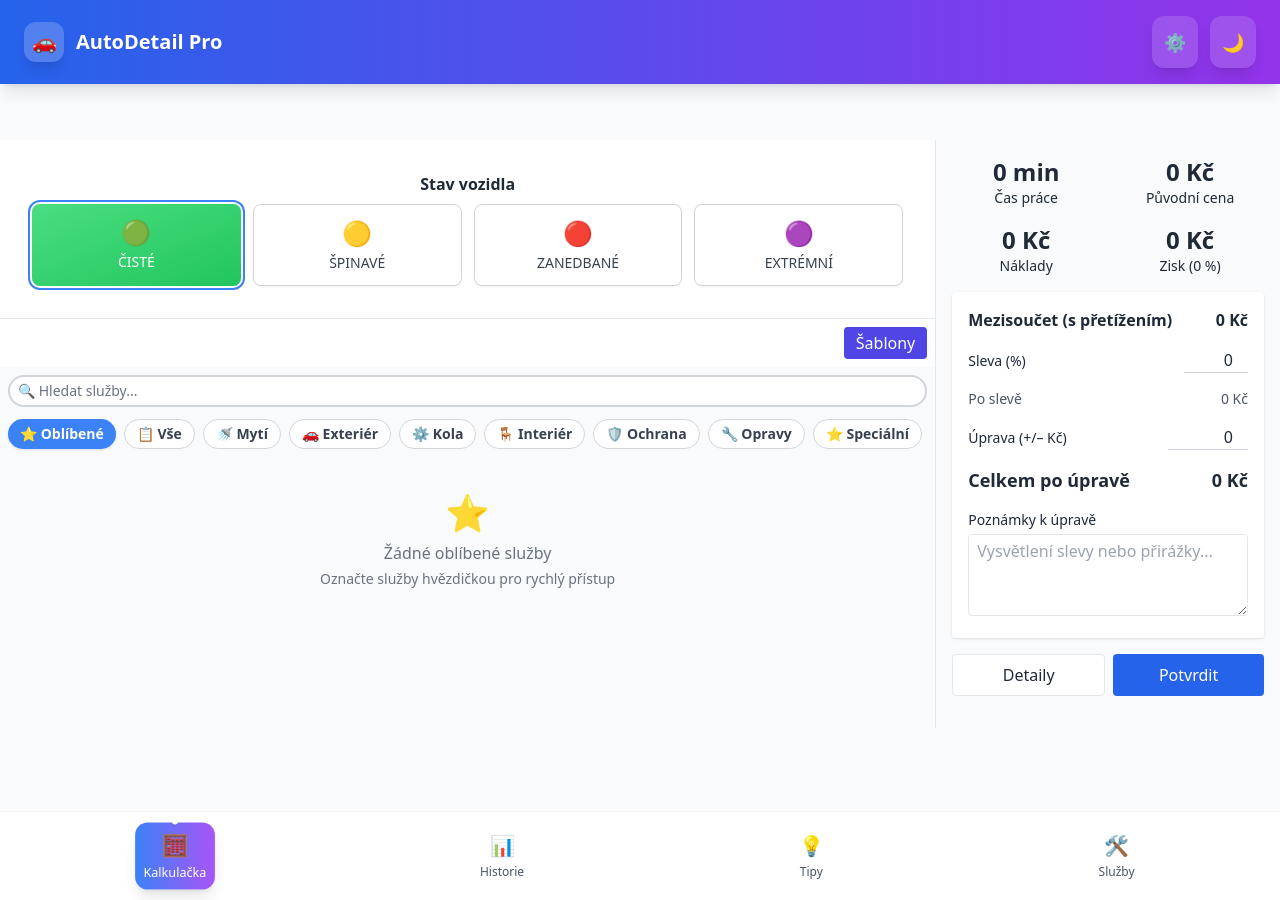
Test case: App › opens templates modal
What coordinates should you click on to do the following:
click the button "Šablony"
I would click on:
 (886, 343)
Its box is top-left (844, 327), bottom-right (927, 359).
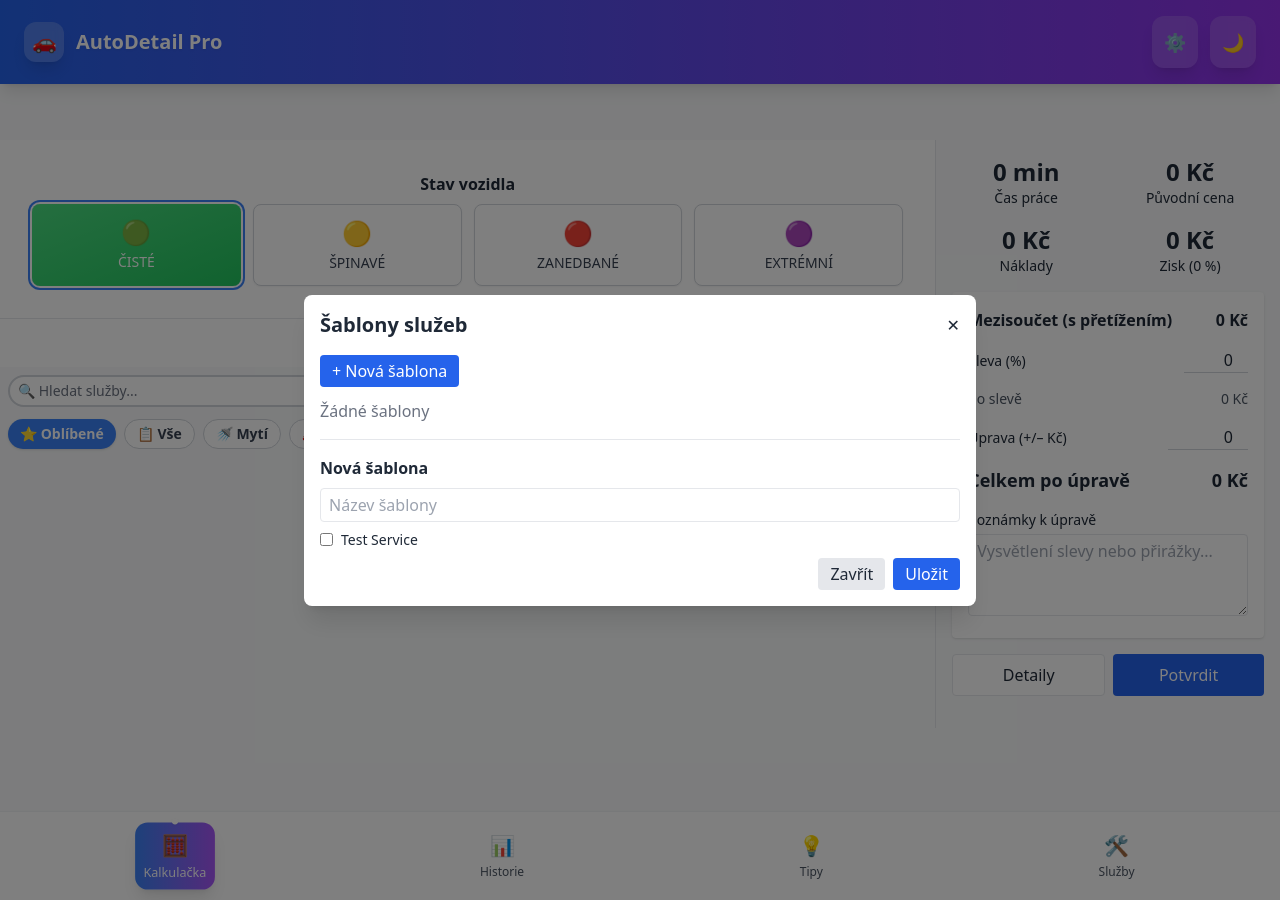
Now the heading "Šablony služeb" is shown, box top-left (320, 310), bottom-right (467, 338)
